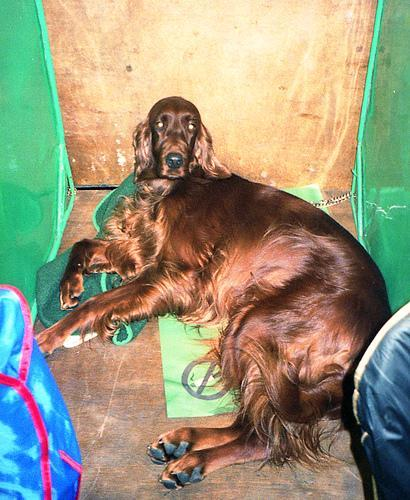Irish_setter: (32, 95, 390, 497)
